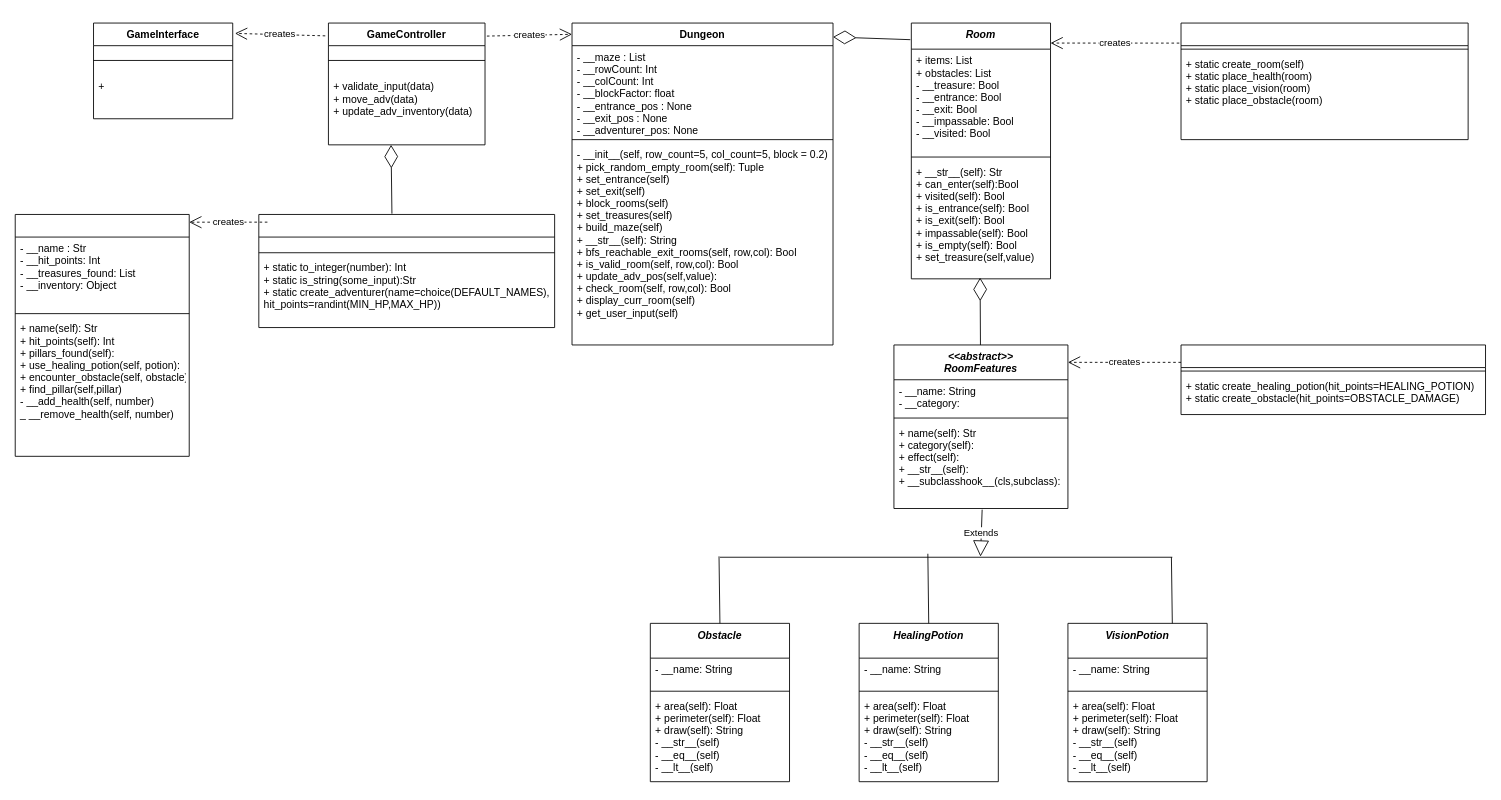
The diagram is 1501 pixels wide and 800 high, and some of its shapes have lost their labels. Here are the shapes that lost their labels. From the top down, the box of each, then its label:
(1180, 22, 1468, 140): RoomFactory
(258, 214, 555, 328): AdventurerFactory
(14, 214, 189, 456): Adventurer
(1180, 344, 1486, 415): RoomFeatureFactory
